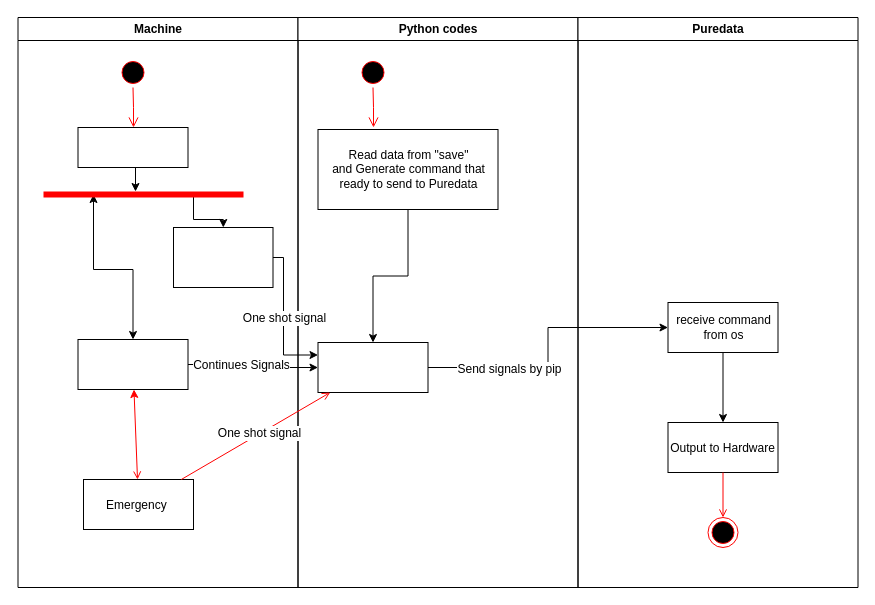
Some shapes in this 875 by 605 pixel diagram are drawn without their labels. The shapes that lost their labels are listed below. From the top down, each one's centre as x and y in pixels, then its label:
At [132,147]: "idle".
At [222,257]: "Choose sound".
At [132,364]: "moving".
At [372,367]: "command queue".
